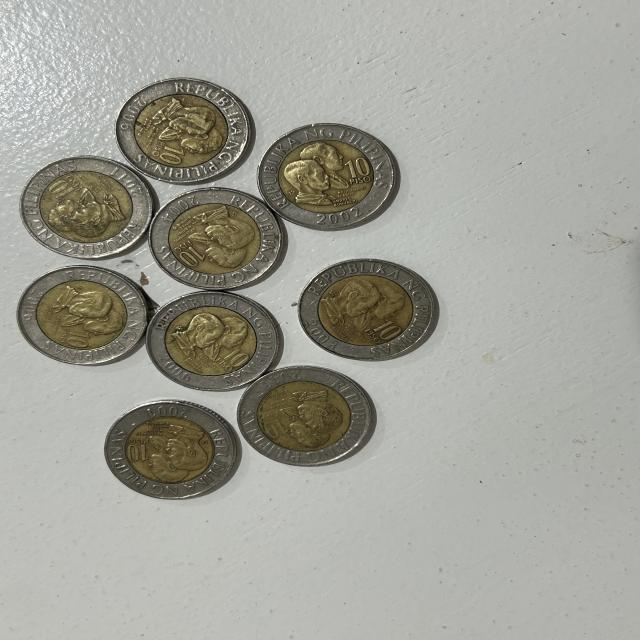10_Old_Front: (356, 312, 416, 351), (142, 132, 192, 172), (167, 232, 209, 278), (337, 148, 379, 193)
